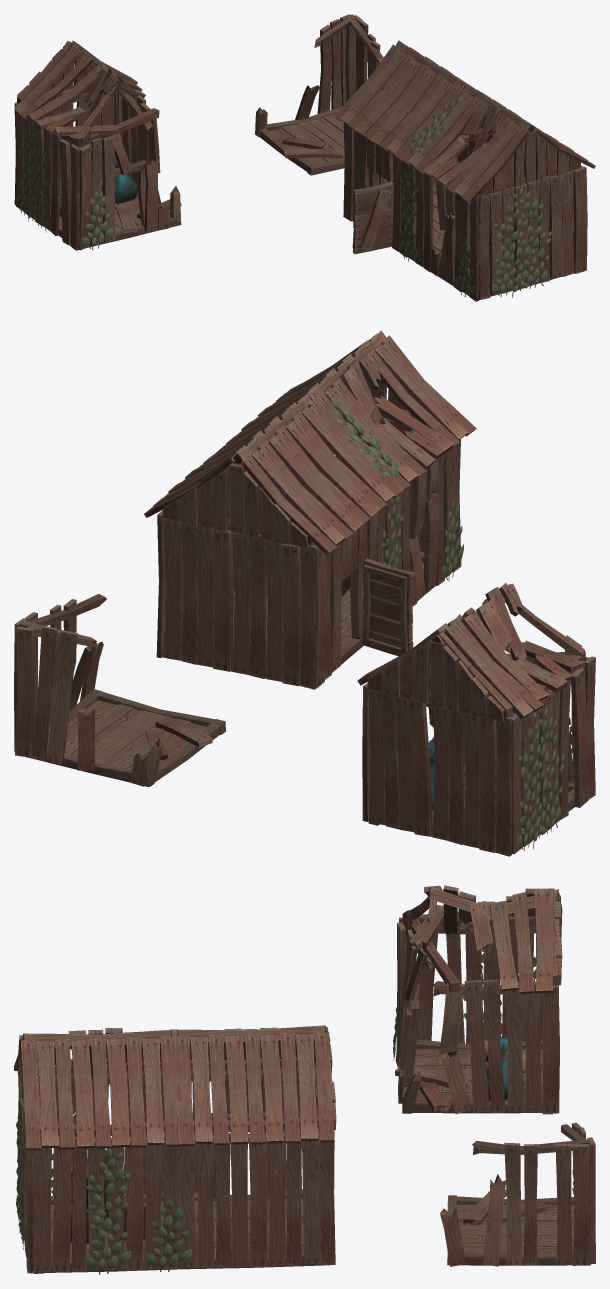
Rendered from Wild_Houses.glb.
3 views of the same model, one above another, from view 1: azimuth 30°, elevation 25°; view 2: azimuth 150°, elevation 25°; view 3: azimuth 270°, elevation 25° (orthographic). The views are drawn at different scales.
Parts seen in each view (by area): view 1: propsBarn_plankSide_5_017; view 2: propsBarn_plankSide_5_017; view 3: propsBarn_plankSide_5_017.
Part boxes in pixels (left/top/right/bottom): propsBarn_plankSide_5_017: left=14, top=14, right=595, bottom=301; propsBarn_plankSide_5_017: left=14, top=330, right=595, bottom=856; propsBarn_plankSide_5_017: left=14, top=885, right=595, bottom=1274.
Size of what is drawn, in the model's own units: 23.47 by 9.88 by 24.55.
Materials: 3 (3 with a texture image).
